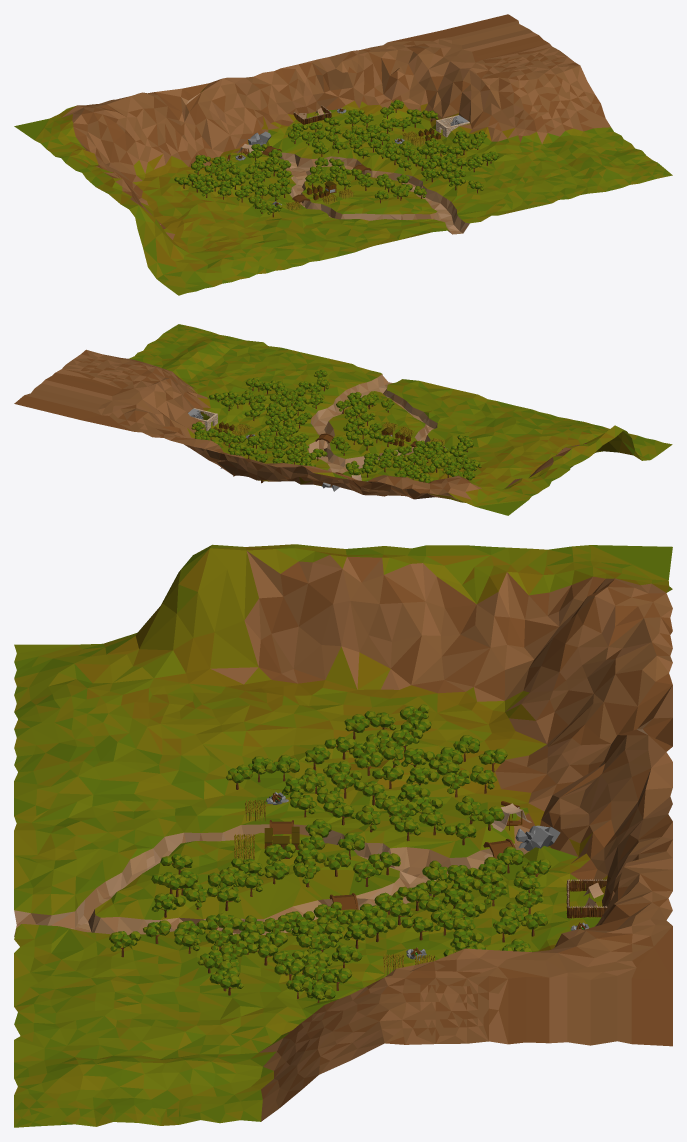
File: map.fbx
The picture shows the model from 3 angles, top to bottom: view 1: azimuth 30°, elevation 25°; view 2: azimuth 150°, elevation 25°; view 3: azimuth 270°, elevation 25°; orthographic projection. The views are drawn at different scales.
Parts seen in each view (by area): view 1: ground; view 2: ground; view 3: ground, Cylinder.
Boxes of the visible parts, left/top/right/bottom form: ground: left=14, top=14, right=672, bottom=295; ground: left=14, top=324, right=672, bottom=515; ground: left=14, top=544, right=672, bottom=1127; Cylinder: left=566, top=879, right=607, bottom=918.
Bounding box in the file's own units: 10001 × 2318 × 17328.
